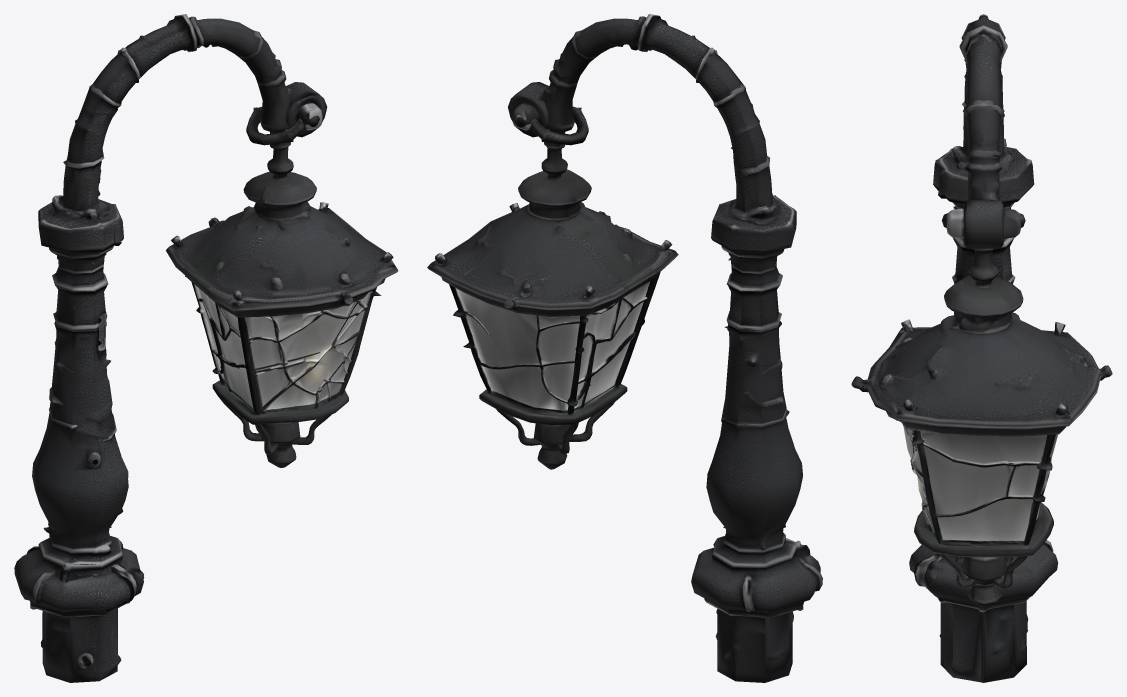
File: street_lamp.glb
3 renders of one model, left to right at view 1: azimuth 30°, elevation 25°; view 2: azimuth 150°, elevation 25°; view 3: azimuth 270°, elevation 25°, orthographic. The views are drawn at different scales.
Visible parts, largest first — view 1: tripo_node_d896f8bc-0e08-403f-935e-3051e1aa479c; view 2: tripo_node_d896f8bc-0e08-403f-935e-3051e1aa479c; view 3: tripo_node_d896f8bc-0e08-403f-935e-3051e1aa479c.
Part boxes in pixels (x1,y1,x2,y2): tripo_node_d896f8bc-0e08-403f-935e-3051e1aa479c: (14, 14, 398, 682); tripo_node_d896f8bc-0e08-403f-935e-3051e1aa479c: (427, 14, 822, 682); tripo_node_d896f8bc-0e08-403f-935e-3051e1aa479c: (851, 14, 1112, 682).
Size of the model in its own units: 2.62 by 4.5 by 1.53.
Materials: 1 (1 with a texture image).
